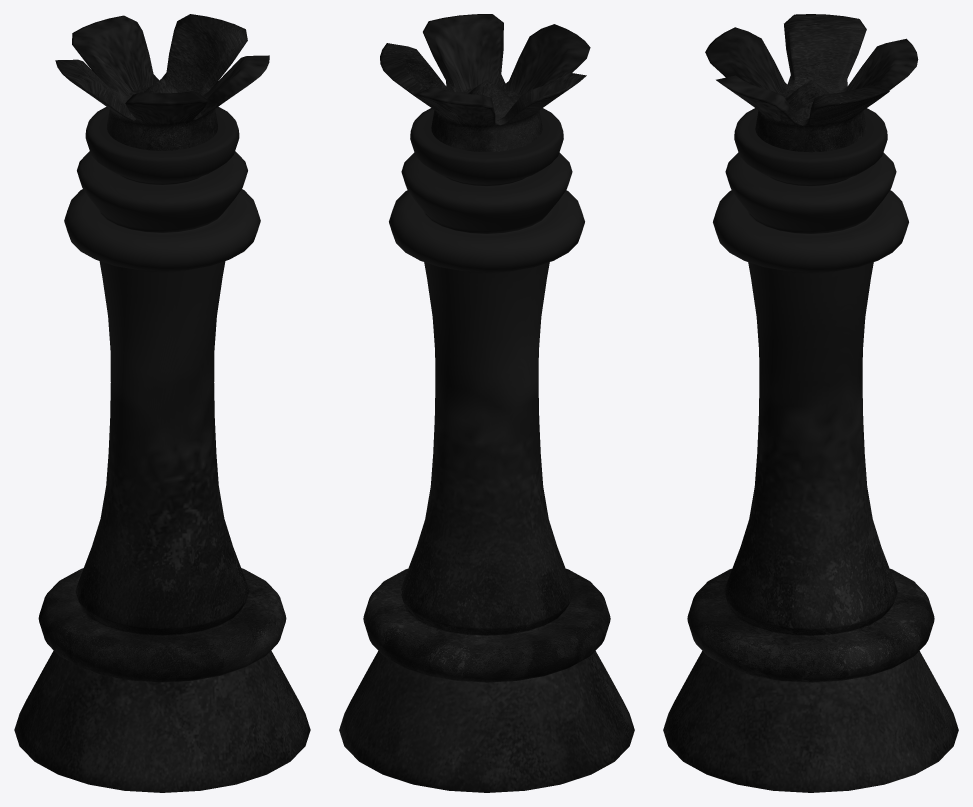
File: queen_black.obj
3 renders of one model, left to right at view 1: azimuth 30°, elevation 25°; view 2: azimuth 150°, elevation 25°; view 3: azimuth 270°, elevation 25°, orthographic.
Visible parts, largest first — view 1: queen_Cylinder.008; view 2: queen_Cylinder.008; view 3: queen_Cylinder.008.
Boxes of the visible parts, left/top/right/bottom form: queen_Cylinder.008: left=14, top=14, right=310, bottom=792; queen_Cylinder.008: left=339, top=14, right=634, bottom=792; queen_Cylinder.008: left=663, top=14, right=958, bottom=792.
Bounding box in the file's own units: 0.9172 × 2.3 × 0.9172.
1 material, 1 textured.
